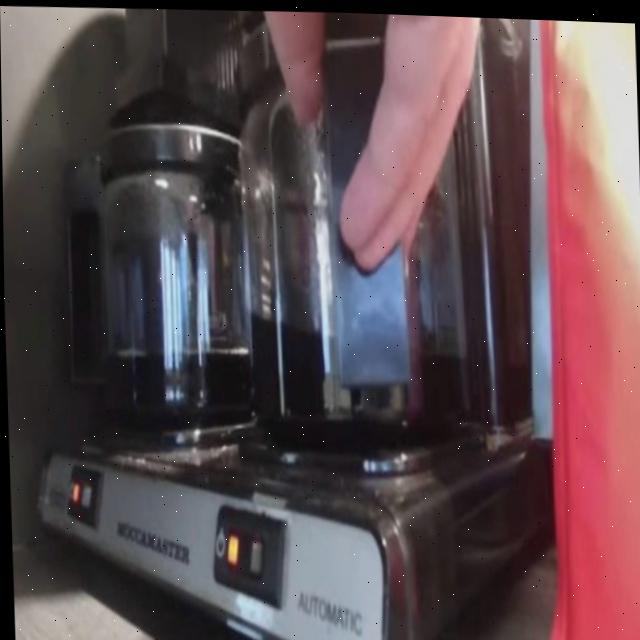coffee: (215, 6, 509, 501)
